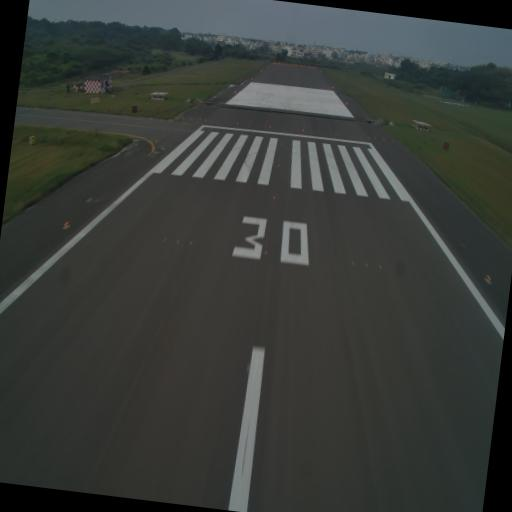off: (376, 260, 384, 271), (350, 258, 358, 269), (162, 234, 168, 248), (176, 236, 184, 246), (188, 238, 195, 248), (364, 260, 370, 270)
on: (484, 272, 494, 286), (62, 219, 71, 231), (262, 246, 269, 258), (271, 192, 276, 203), (280, 140, 286, 147), (278, 164, 280, 168)
